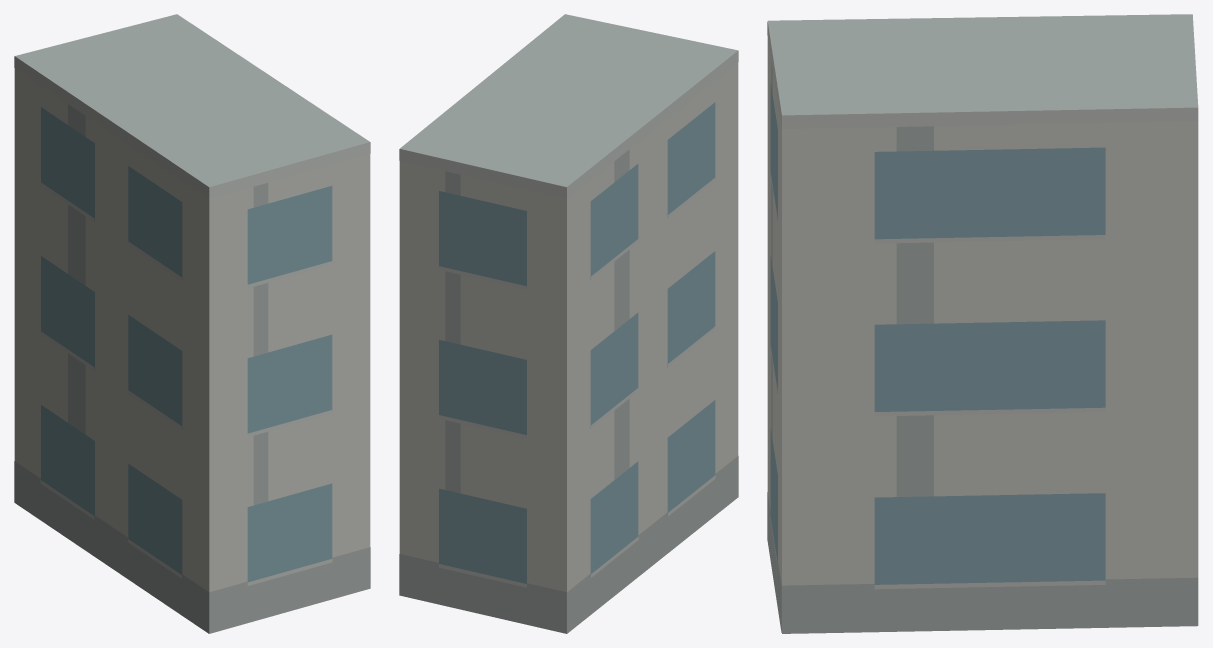
File: survey-upis-33028678.glb
3 renders of one model, left to right at view 1: azimuth 30°, elevation 25°; view 2: azimuth 150°, elevation 25°; view 3: azimuth 270°, elevation 25°, orthographic. The views are drawn at different scales.
Parts seen in each view (by area): view 1: survey-upis-33028678.tmp; view 2: survey-upis-33028678.tmp; view 3: survey-upis-33028678.tmp.
Boxes of the visible parts, box(x1,y1,x2,y2) form: survey-upis-33028678.tmp: box(14, 14, 370, 633); survey-upis-33028678.tmp: box(399, 14, 738, 633); survey-upis-33028678.tmp: box(767, 14, 1198, 633).
Bounding box in the file's own units: 3.84 × 9.15 × 6.9.
